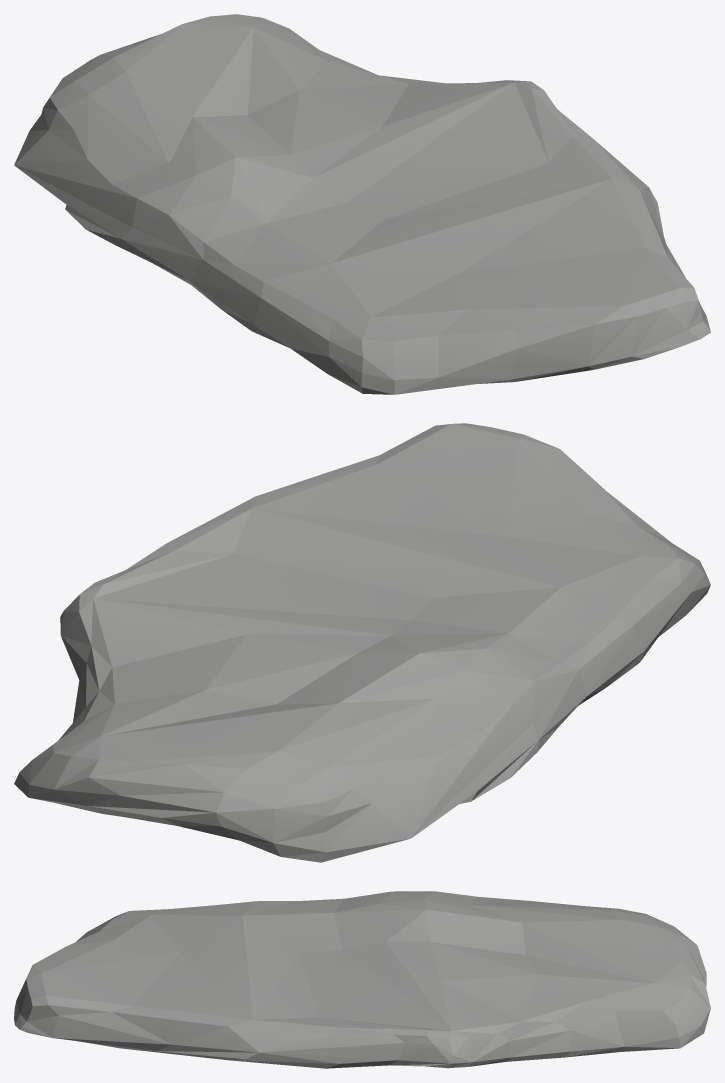
Rendered from Cavern_Step_Med-02.fbx.
3 renders of one model, top to bottom at view 1: azimuth 30°, elevation 25°; view 2: azimuth 150°, elevation 25°; view 3: azimuth 270°, elevation 25°, orthographic. The views are drawn at different scales.
Visible parts, largest first — view 1: Cavern_Step_Med-02; view 2: Cavern_Step_Med-02; view 3: Cavern_Step_Med-02.
Boxes of the visible parts, bbox=[...] form: Cavern_Step_Med-02: bbox=[14, 14, 710, 394]; Cavern_Step_Med-02: bbox=[14, 423, 710, 862]; Cavern_Step_Med-02: bbox=[14, 891, 710, 1068].
Size of the model in its own units: 328 by 54 by 558.
Materials: 1 (1 with a texture image).
